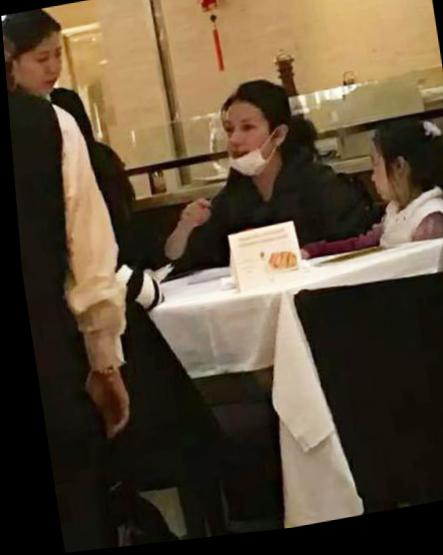NONE: (18, 45, 67, 99)
WRONG: (219, 119, 283, 185)
